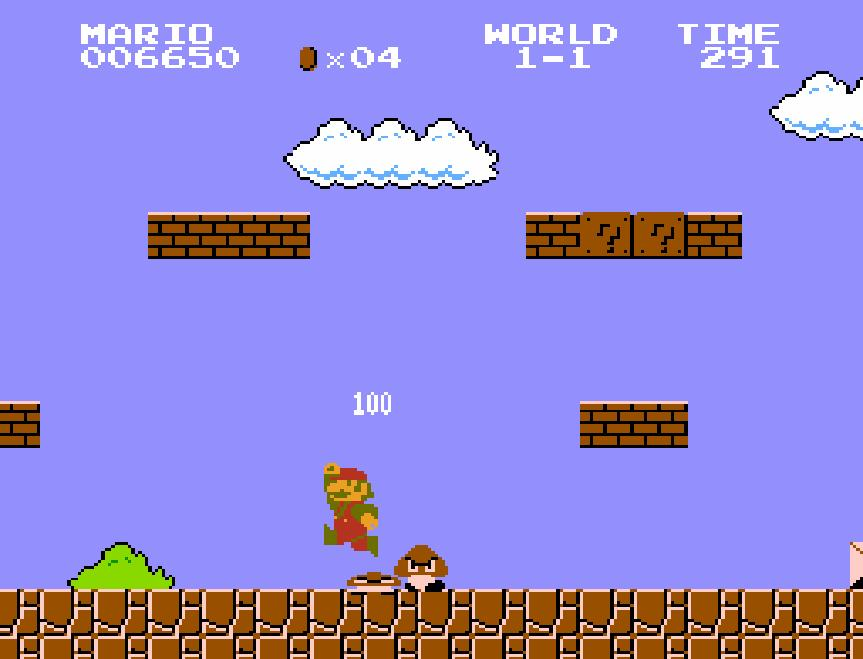big_mario: (322, 461, 380, 559)
